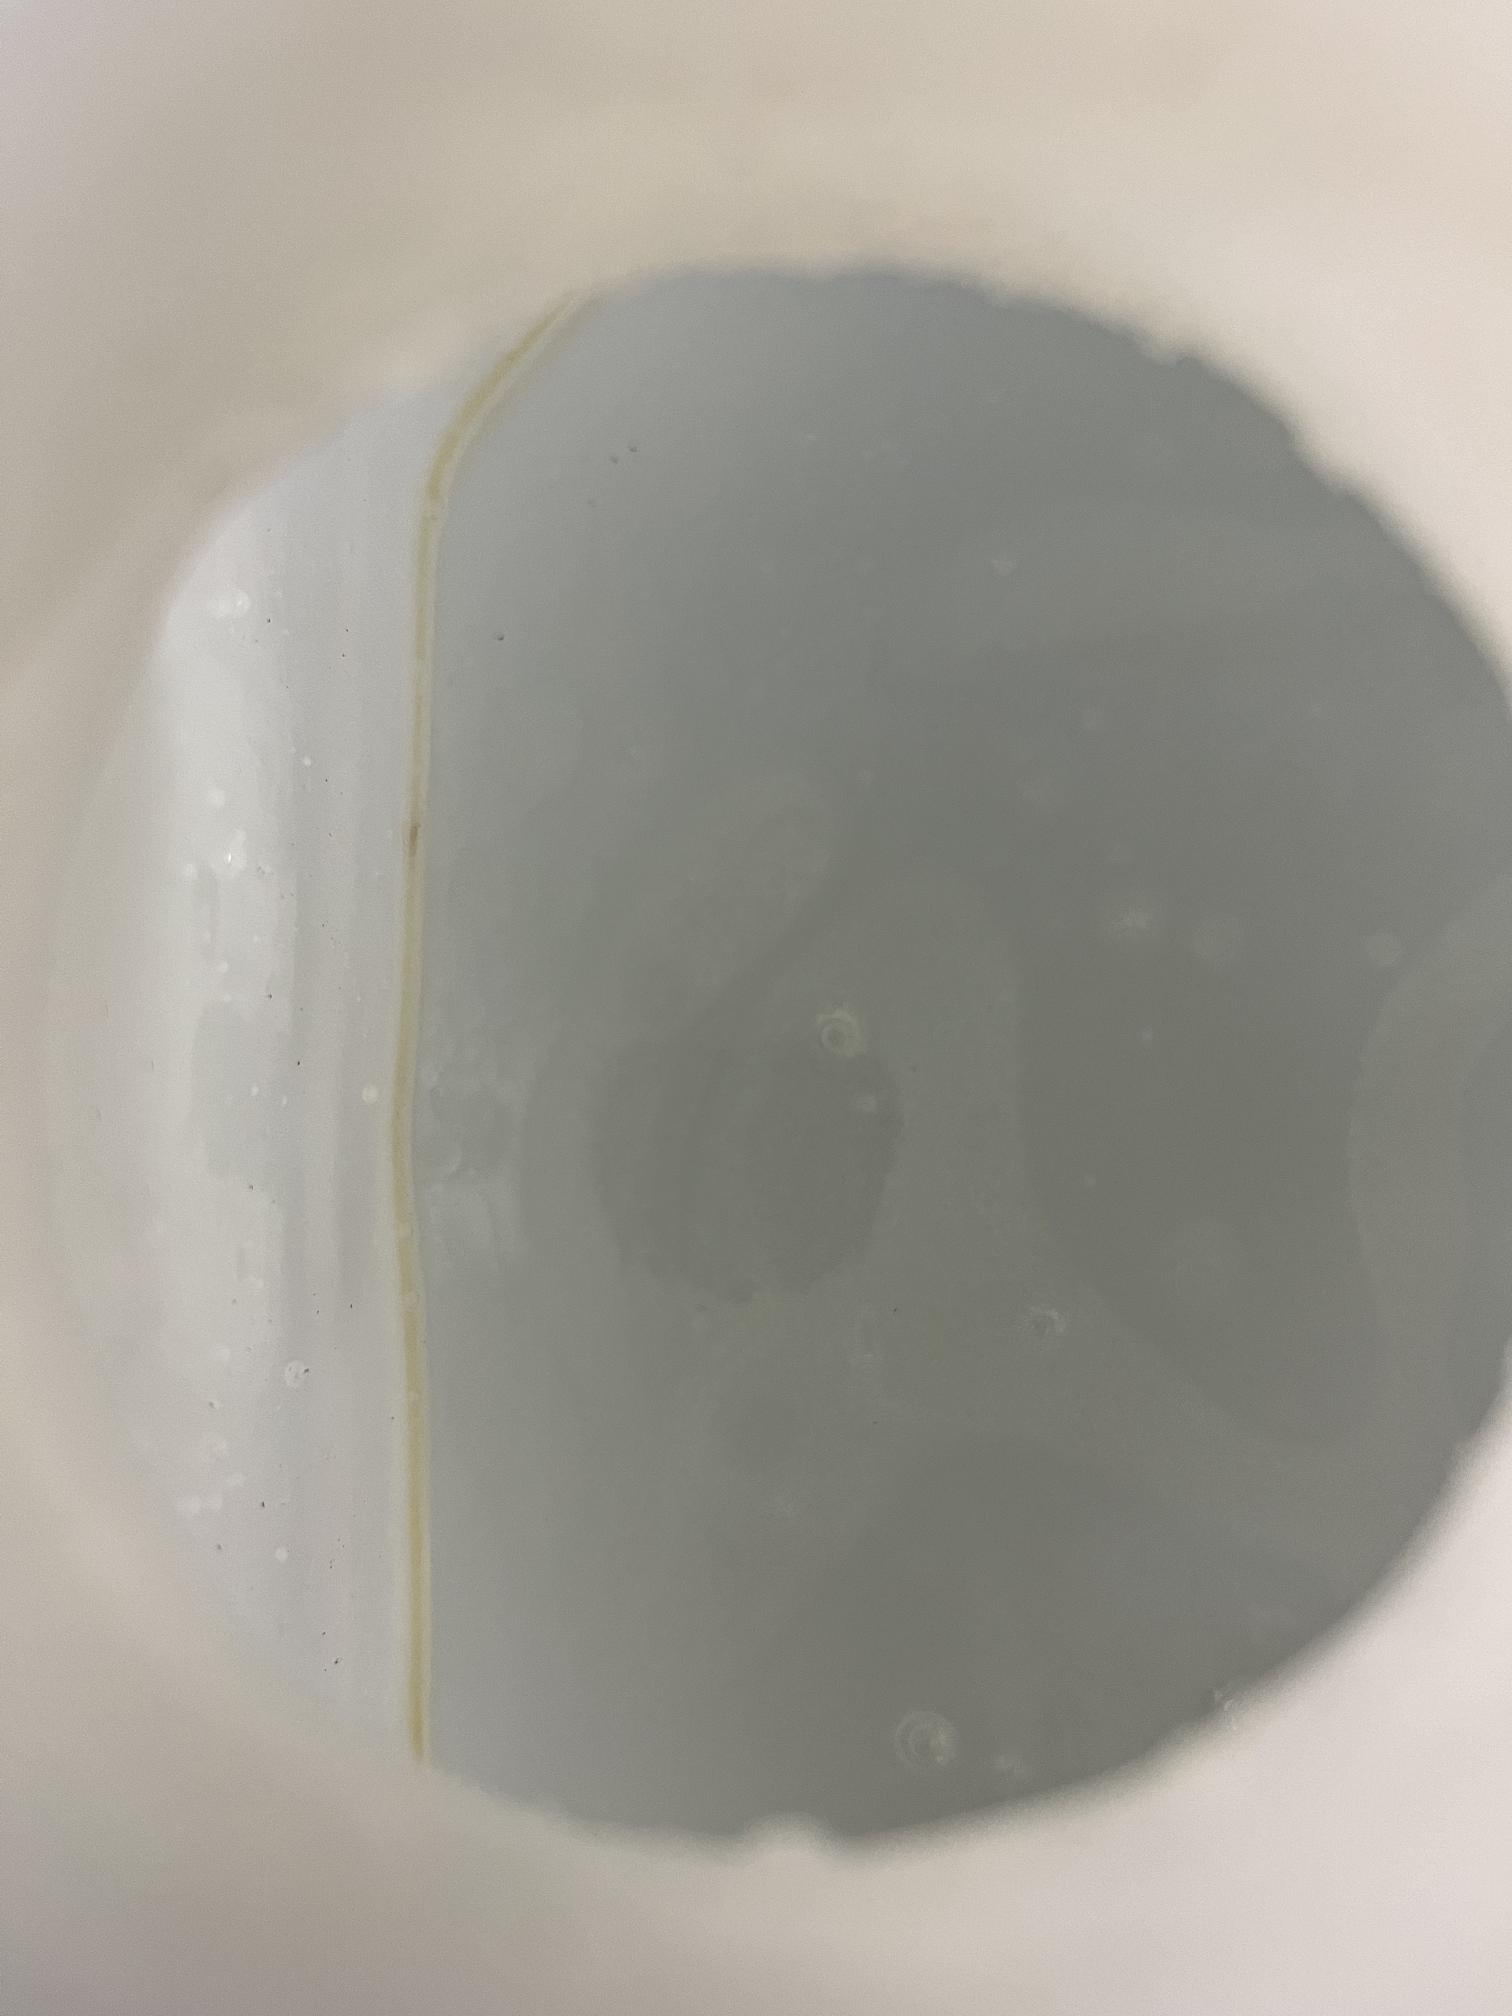Borda de Oleo - - 20ml: (392, 300, 584, 1757)
Presenca de Oleo - - 20ml: (73, 265, 1479, 1876)
